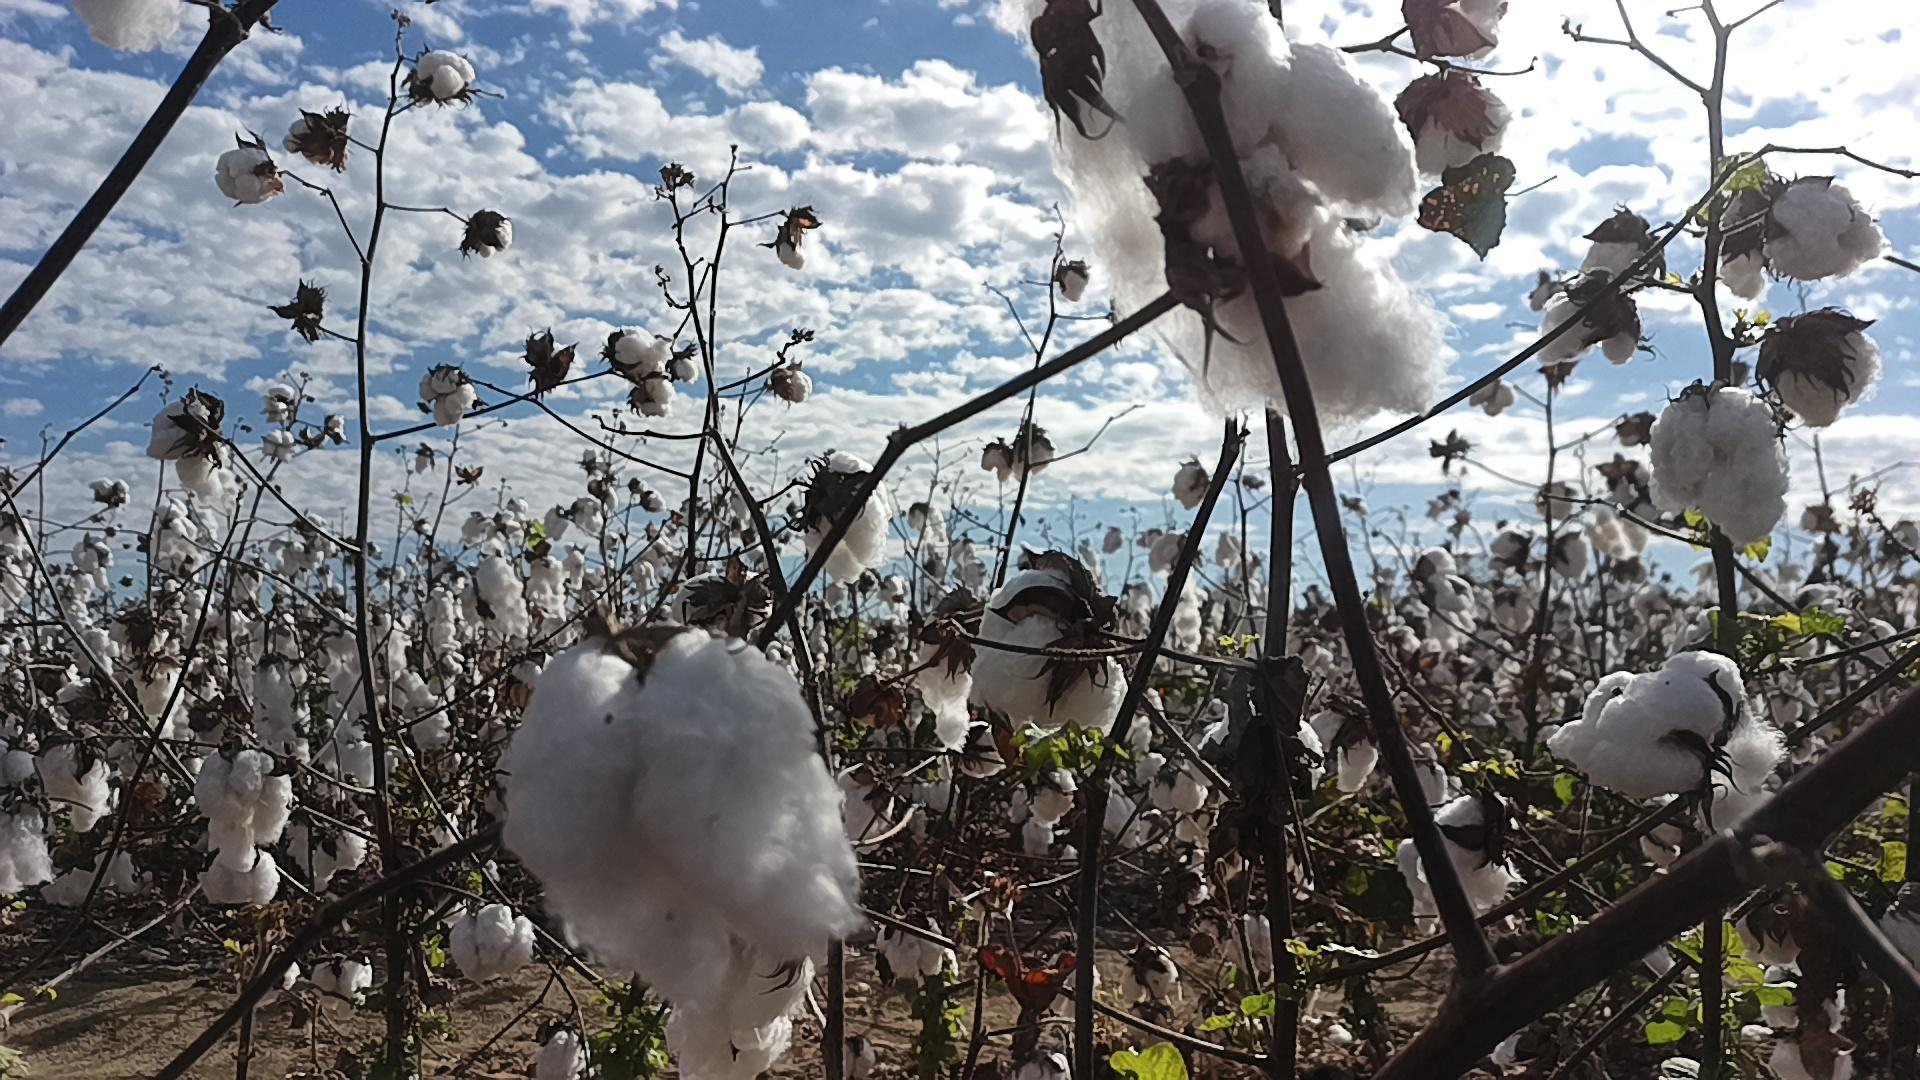cotton_ready: (1048, 0, 1437, 426), (498, 625, 853, 1005), (1120, 0, 1423, 265), (1549, 650, 1749, 803), (965, 568, 1126, 736), (1647, 389, 1791, 549), (1646, 712, 1788, 862), (675, 957, 815, 1080), (1759, 177, 1888, 284), (1416, 790, 1518, 915), (196, 750, 295, 876), (1762, 323, 1880, 427), (799, 451, 887, 585), (1414, 83, 1513, 175), (145, 398, 223, 502), (1538, 287, 1635, 365), (446, 905, 538, 985), (918, 622, 975, 753), (34, 738, 113, 831), (42, 841, 145, 909), (1304, 709, 1381, 795), (1718, 185, 1774, 301), (460, 553, 533, 640), (290, 807, 375, 881), (0, 796, 58, 898), (839, 757, 898, 855), (75, 0, 182, 50), (1581, 223, 1655, 289), (309, 948, 375, 1022), (884, 918, 951, 985), (204, 853, 281, 906), (255, 657, 301, 744), (215, 146, 278, 202), (421, 367, 475, 426), (411, 51, 476, 99), (612, 324, 669, 377), (534, 1029, 591, 1080), (285, 117, 343, 166), (472, 216, 513, 256), (638, 381, 678, 418)
